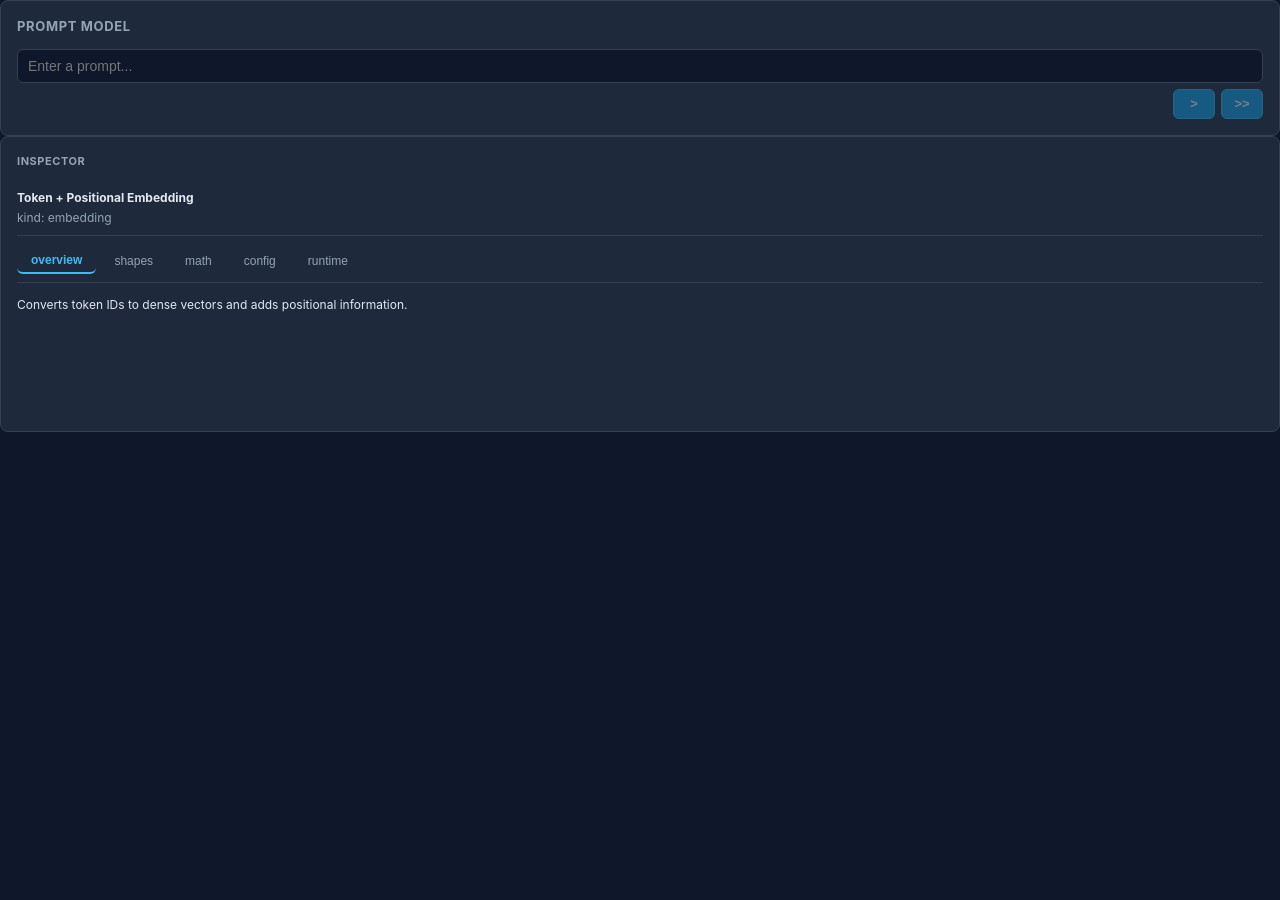
Scenario: PausePrompt + Inspector integration › second Step click shows the SECOND snapshot's data, not a lagging first one
Click the button "runtime".
click(328, 261)  # box [294,248,362,274]
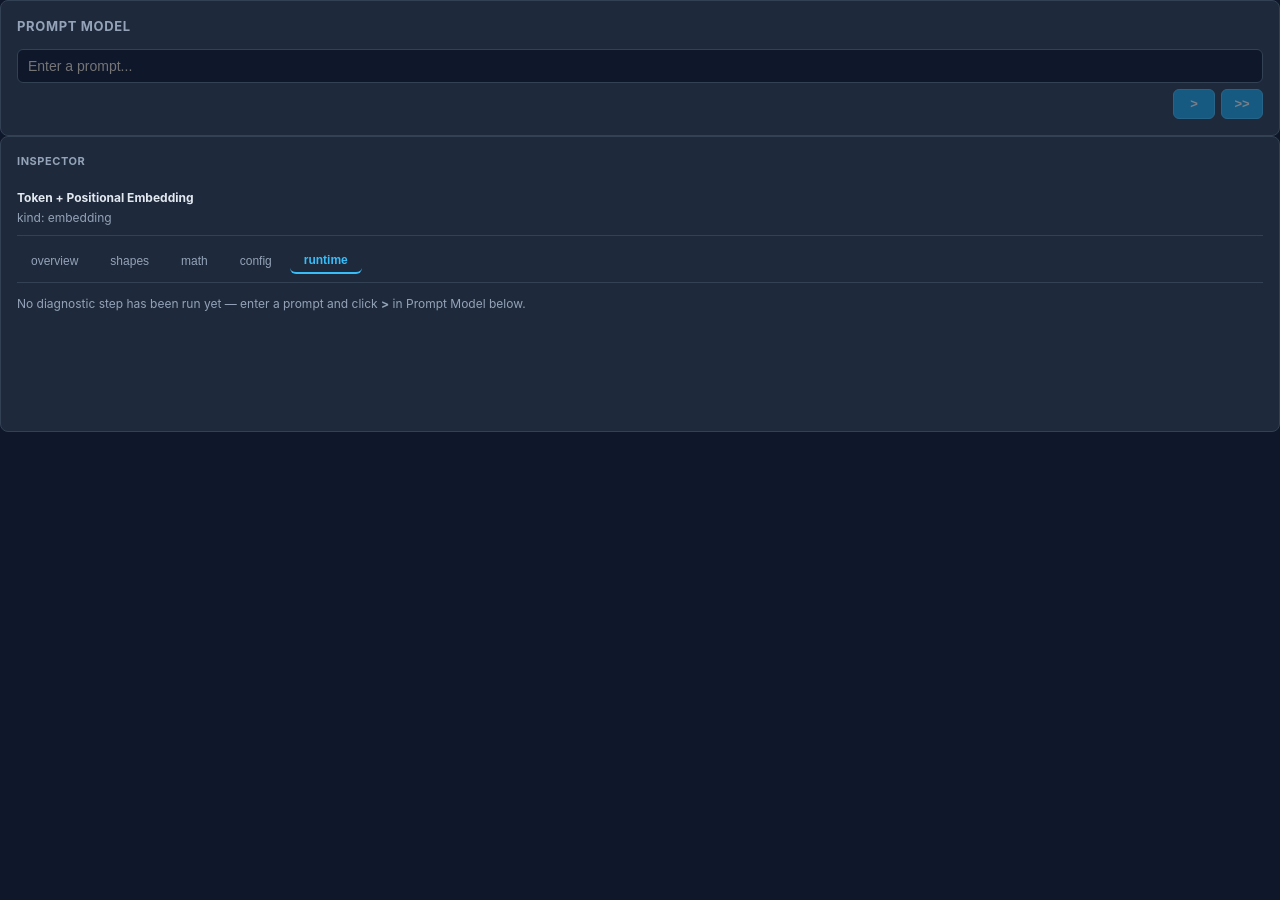
Type "hello" into the field with placeholder "Enter a prompt...".
click(640, 66); type("hello")  # box [17,48,1263,82]
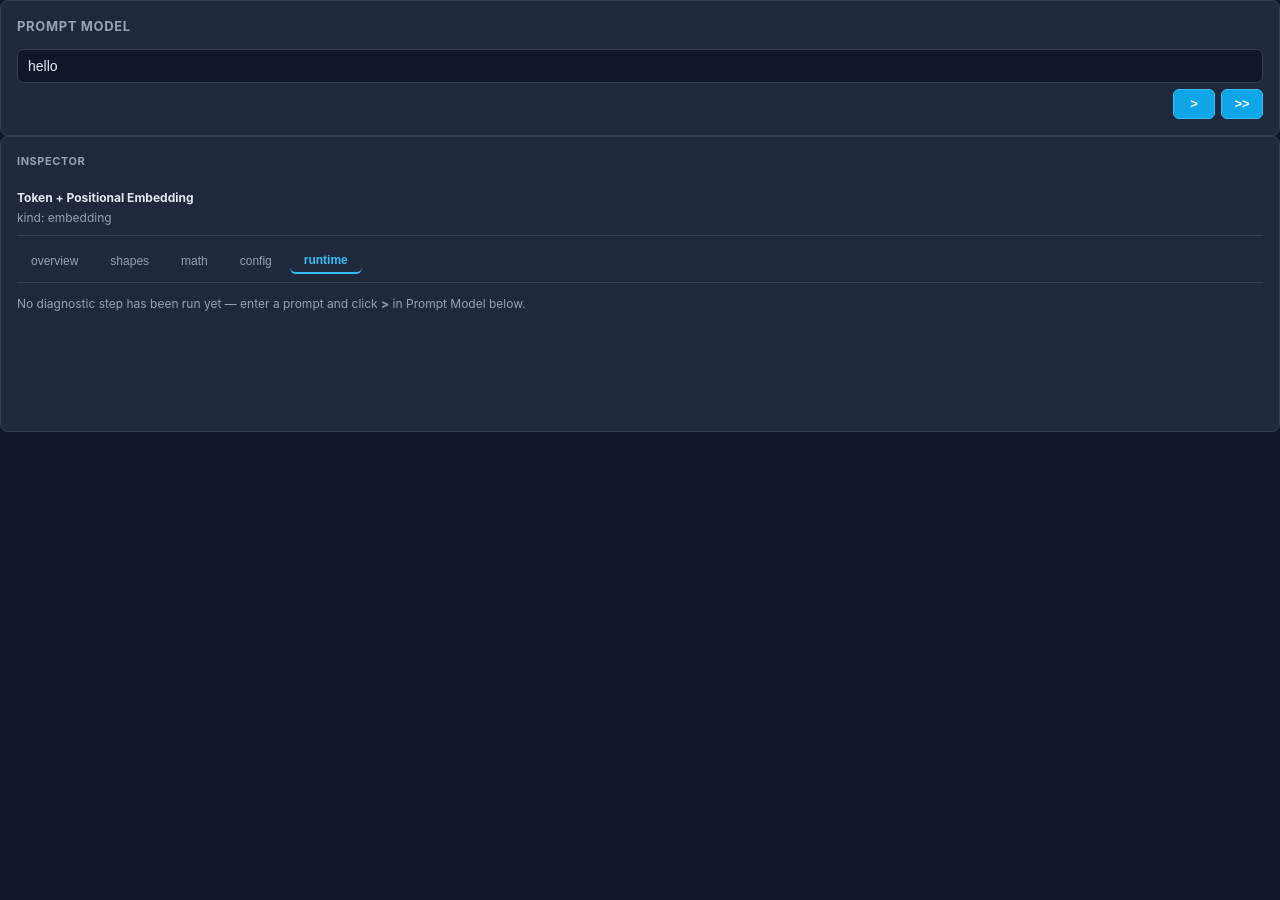
Click the button ">".
click(1194, 104)  # box [1173,88,1215,118]
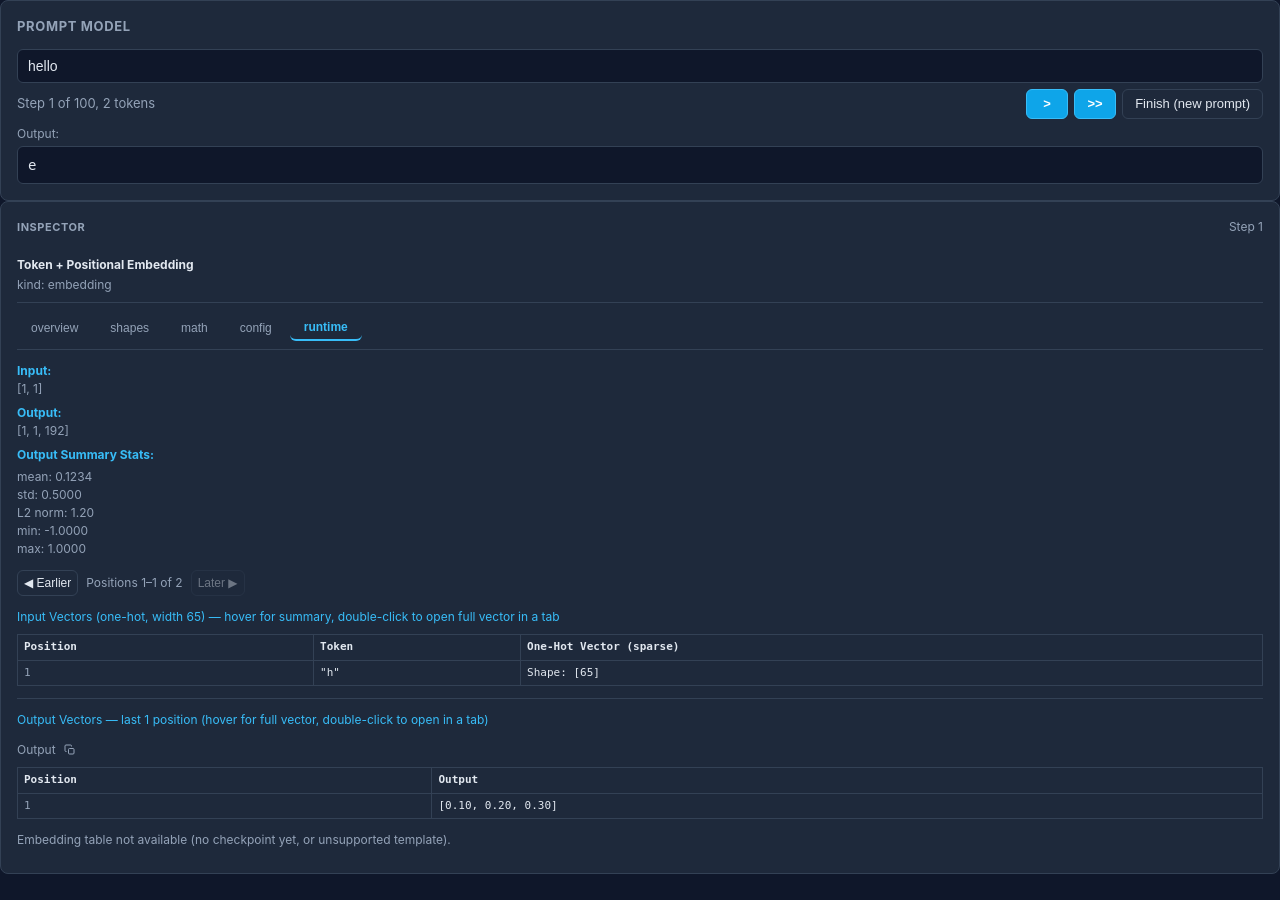
Result: the text "mean: 0.1234" is shown at [17,469,92,484]
Click the button ">".
click(1047, 104)  # box [1026,88,1068,118]
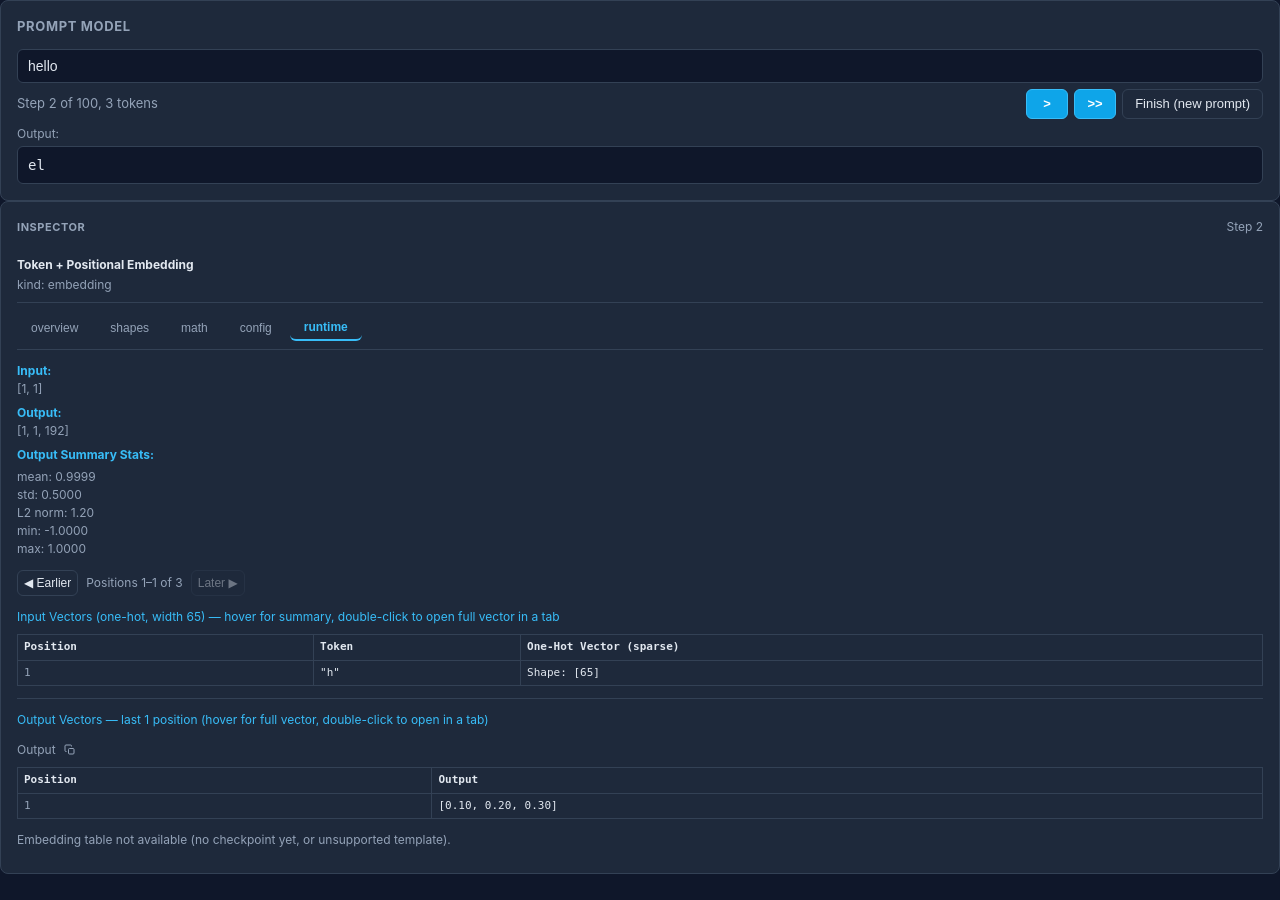
Result: the text "mean: 0.9999" is shown at [17,469,96,484]
Result: the text "0.1234" is gone
